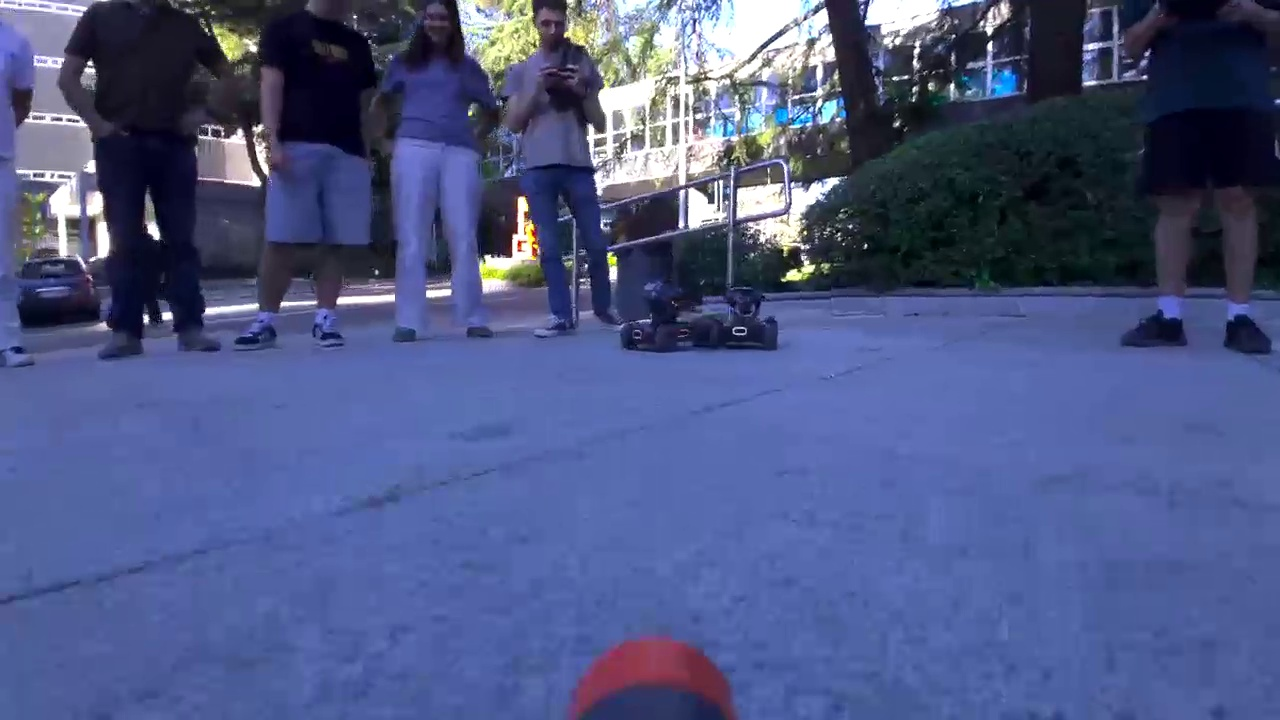robot: (618, 274, 699, 359), (707, 269, 781, 357)
